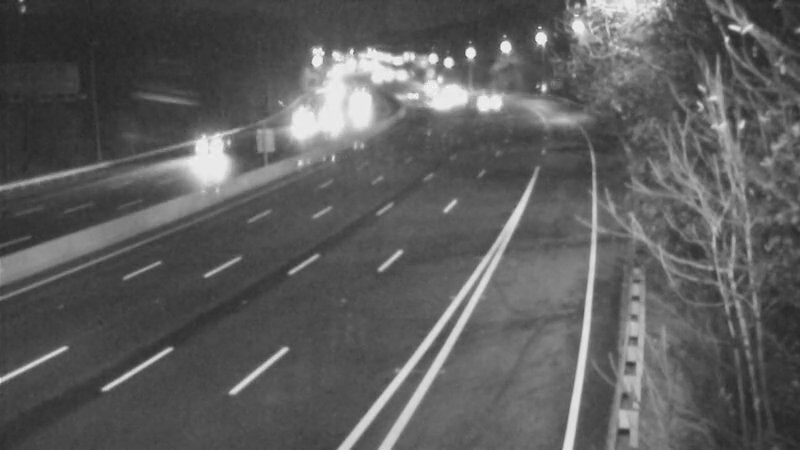vehicle: (160, 117, 240, 197), (387, 68, 437, 118), (427, 69, 477, 119), (412, 78, 462, 128), (464, 77, 514, 127), (272, 97, 322, 147), (309, 85, 359, 135)
